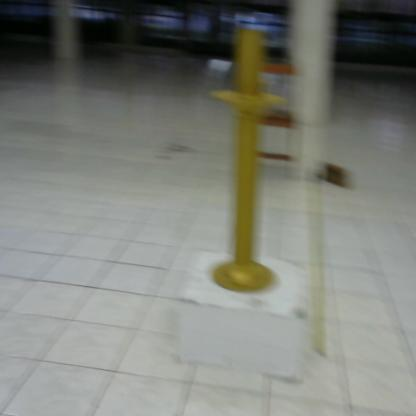pole: (207, 26, 283, 298)
